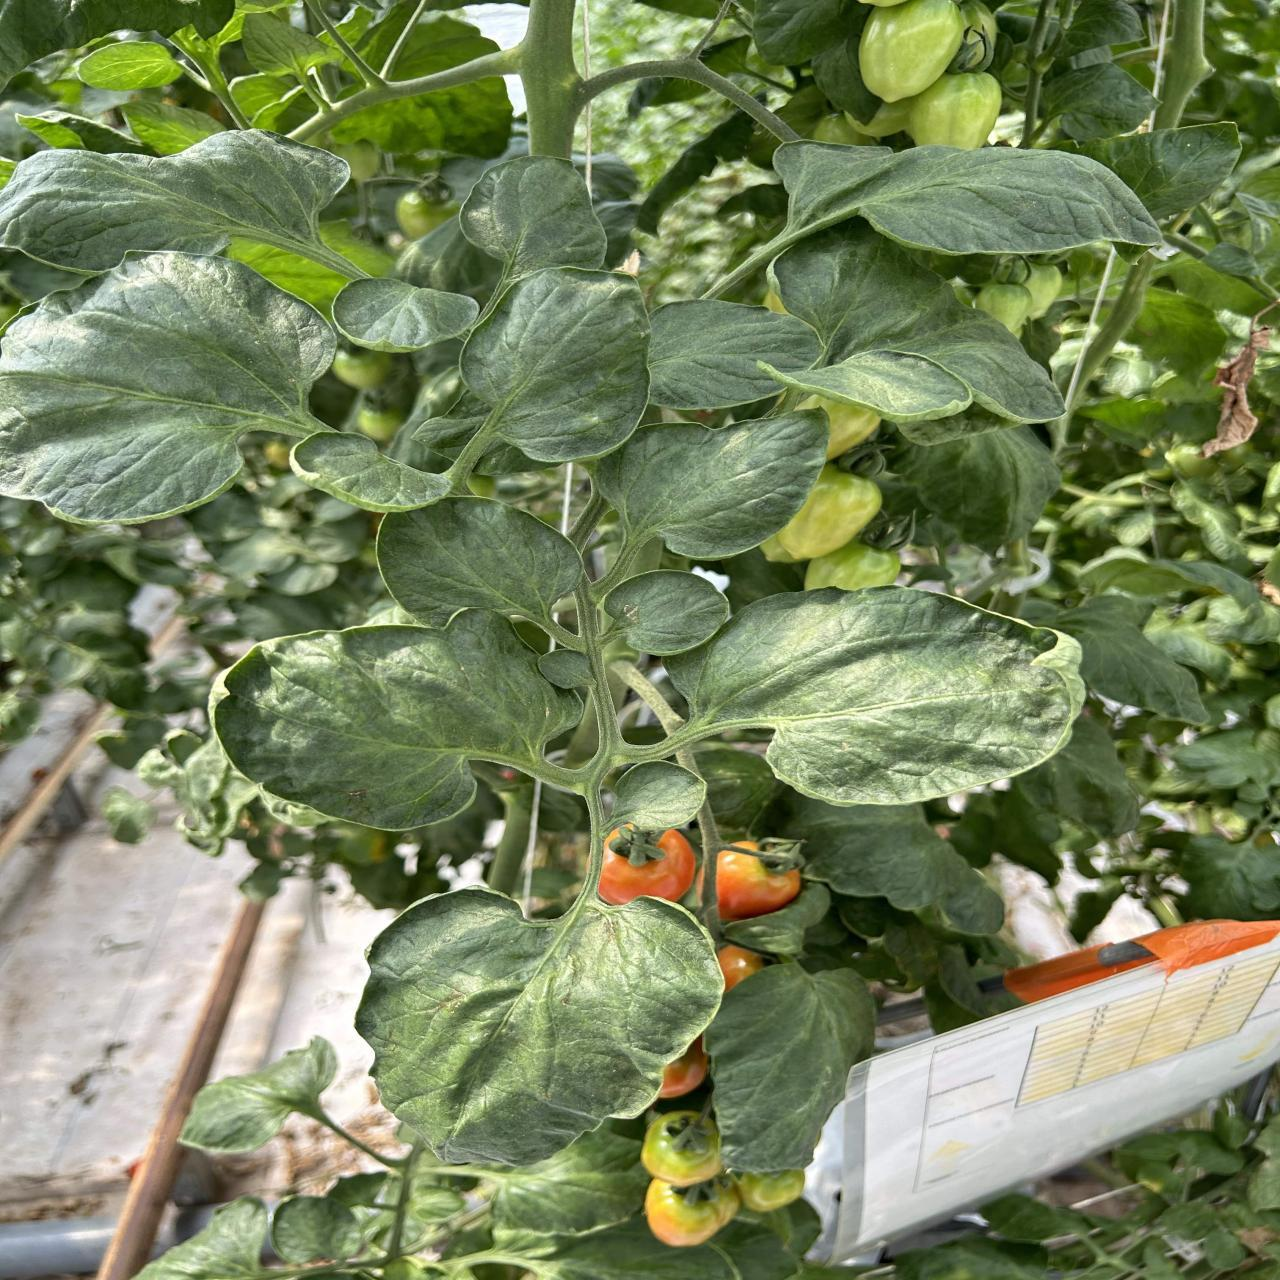Hoja: (356, 888, 722, 1165), (0, 251, 340, 520), (680, 588, 1084, 805), (213, 621, 580, 830), (756, 222, 1060, 422), (4, 129, 368, 280), (415, 267, 649, 462), (762, 142, 1159, 254), (591, 411, 828, 558), (377, 497, 584, 629), (647, 300, 818, 408), (458, 157, 606, 279), (332, 278, 479, 350), (605, 571, 729, 654)
Pedunculo: (290, 0, 797, 158)
Tomate: (859, 0, 965, 102), (778, 464, 881, 559), (904, 74, 1001, 149), (598, 830, 695, 904), (716, 839, 803, 921), (641, 1102, 722, 1186), (645, 1178, 741, 1246), (804, 539, 900, 590)
